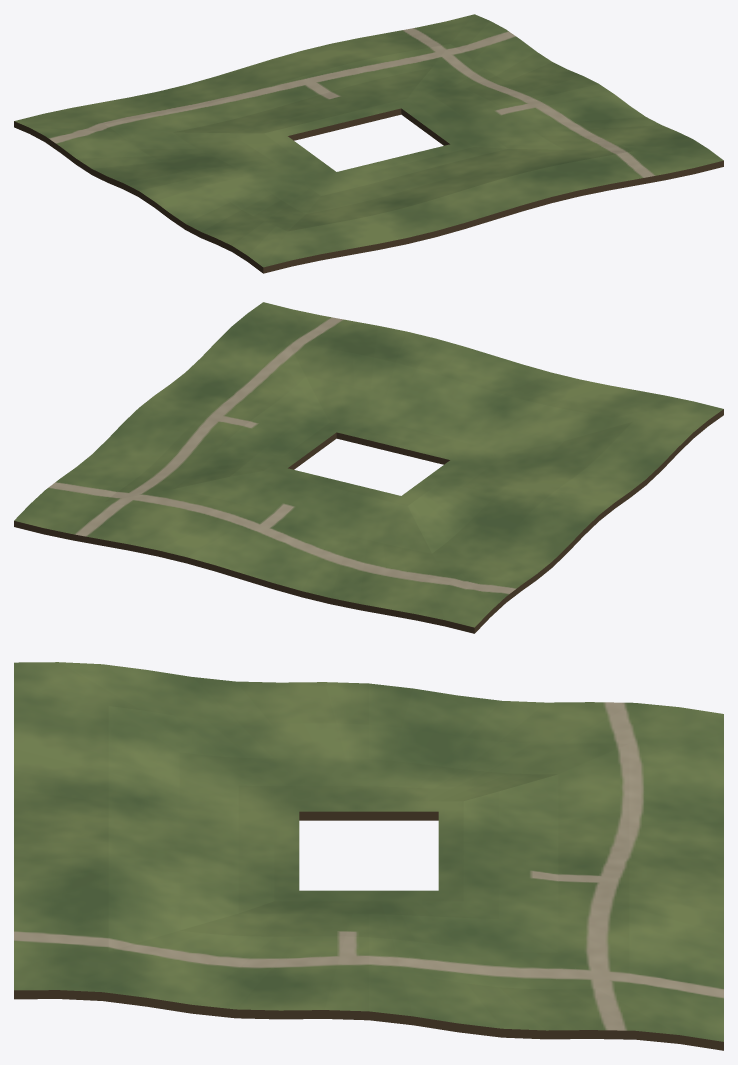
File: neighborhood-ground.glb
3 renders of one model, top to bottom at view 1: azimuth 30°, elevation 25°; view 2: azimuth 150°, elevation 25°; view 3: azimuth 270°, elevation 25°, orthographic. The views are drawn at different scales.
Parts seen in each view (by area): view 1: Continuous ground around the pool; view 2: Continuous ground around the pool; view 3: Continuous ground around the pool.
Boxes of the visible parts, bbox=[...] form: Continuous ground around the pool: bbox=[14, 14, 723, 273]; Continuous ground around the pool: bbox=[14, 302, 723, 633]; Continuous ground around the pool: bbox=[14, 662, 723, 1050].
Size of the model in its own units: 64 by 6.42 by 60.
Materials: 2 (1 with a texture image).
